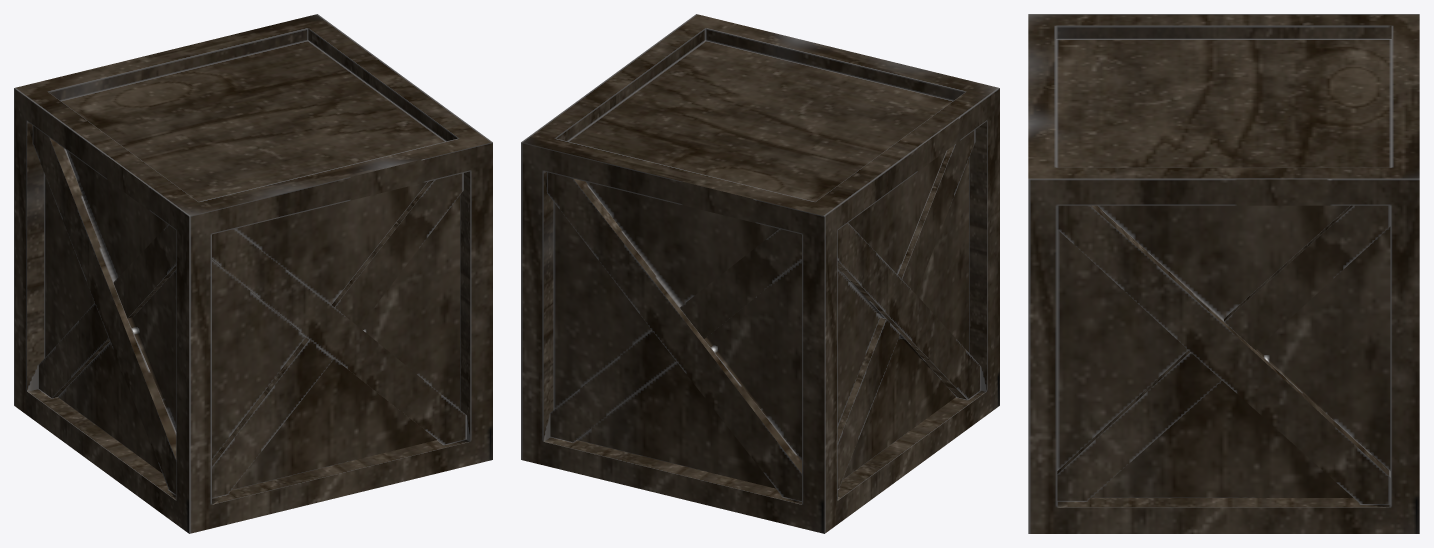
File: caise.fbx
3 renders of one model, left to right at view 1: azimuth 30°, elevation 25°; view 2: azimuth 150°, elevation 25°; view 3: azimuth 270°, elevation 25°, orthographic. The views are drawn at different scales.
Visible parts, largest first — view 1: Caisse; view 2: Caisse; view 3: Caisse.
Part boxes in pixels (x1,y1,x2,y2): Caisse: [14, 14, 492, 533]; Caisse: [521, 14, 999, 533]; Caisse: [1028, 14, 1419, 533].
Bounding box in the file's own units: 55.74 × 55.74 × 55.74.
